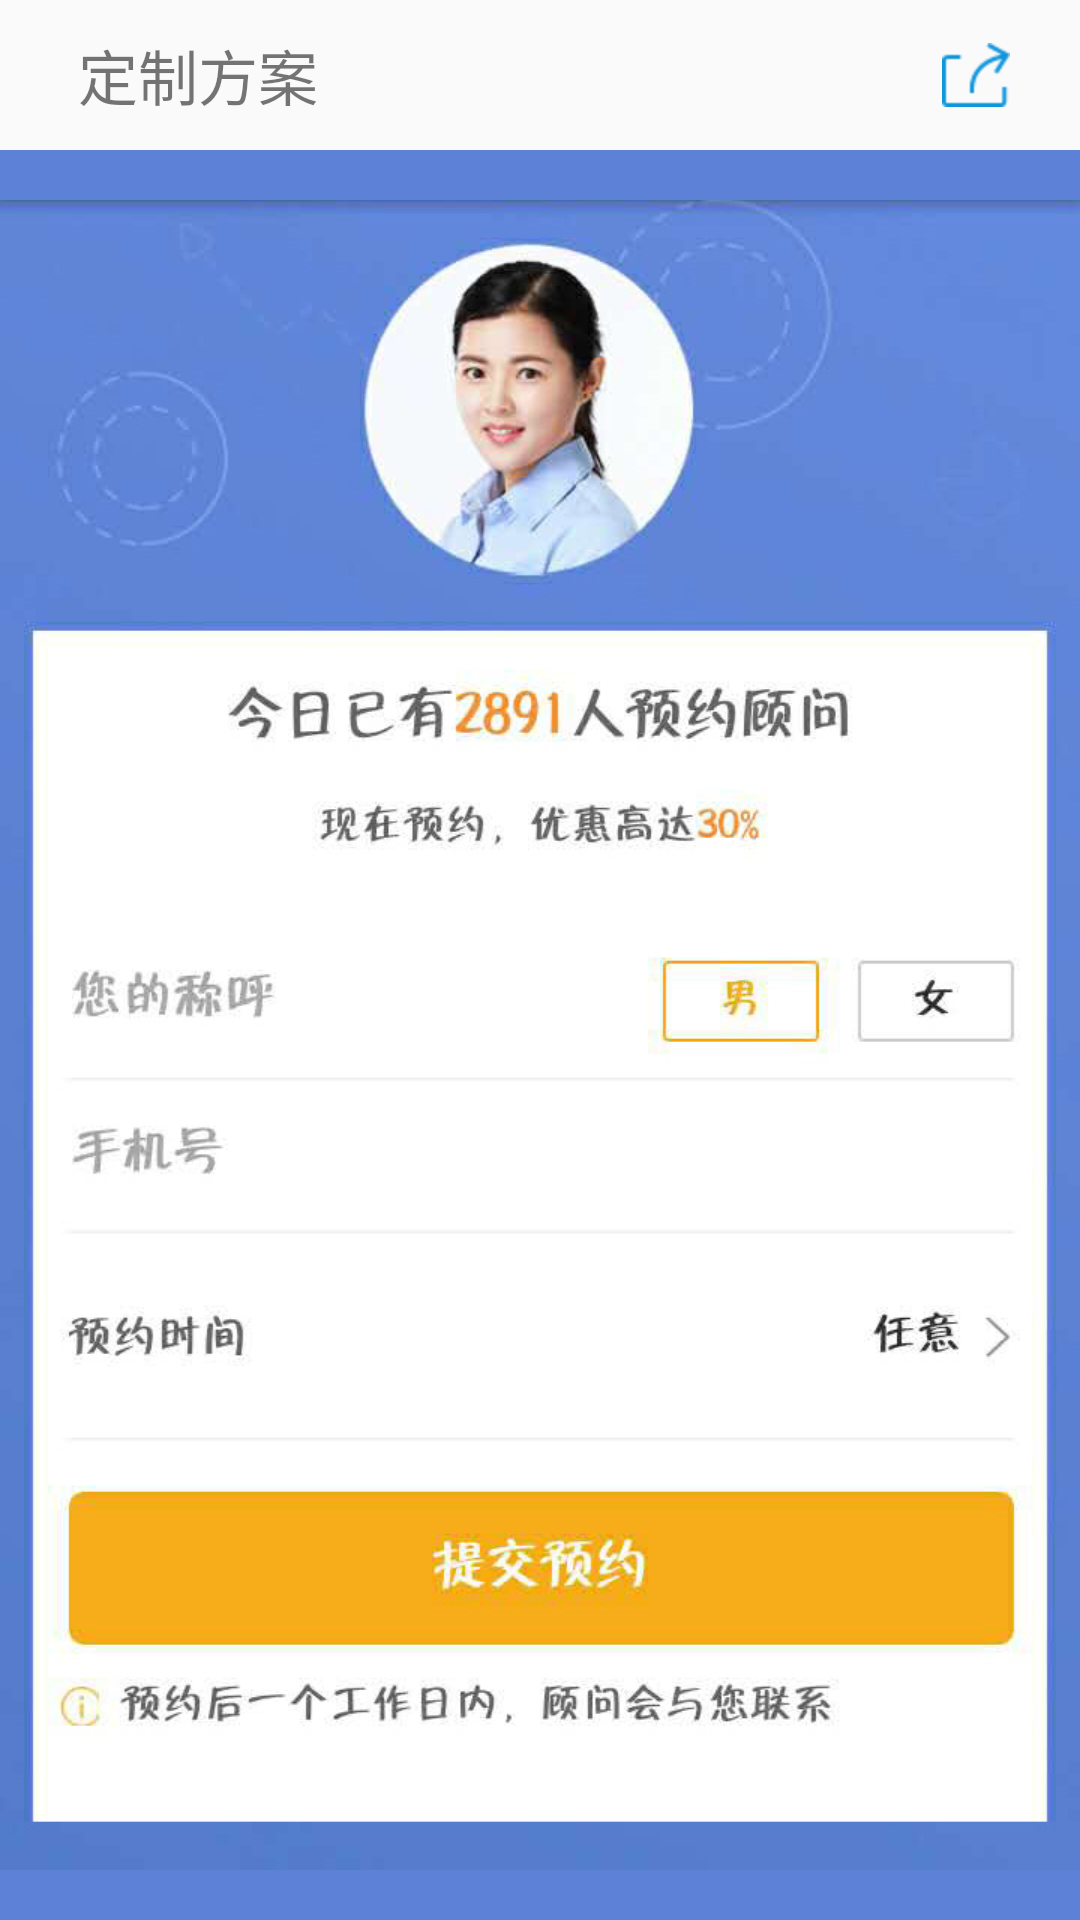

Icons on this 1080px x 1920px Android screen, each with its box as (x1, y1, x2, y2):
share: (942, 43, 1010, 107)
